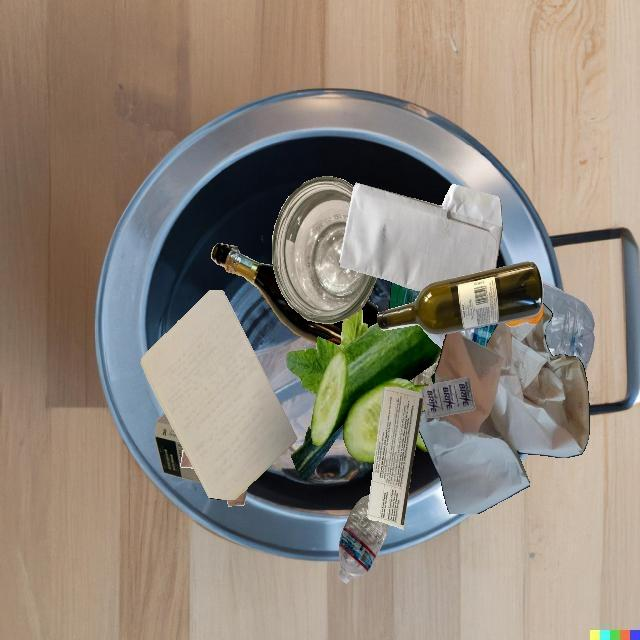biowaste: (286, 308, 442, 462), (291, 423, 343, 482), (422, 383, 430, 385)
cardboard: (155, 413, 201, 483)
glass: (272, 176, 377, 324), (211, 243, 344, 346), (377, 261, 543, 335), (409, 349, 442, 385)
paper: (419, 304, 589, 514), (141, 290, 297, 500), (339, 183, 503, 291), (367, 387, 424, 529), (227, 488, 247, 506), (180, 448, 194, 469)
plastic: (409, 288, 543, 334), (338, 495, 389, 584), (543, 285, 595, 372), (421, 377, 475, 418), (504, 303, 544, 327), (542, 281, 563, 292)
